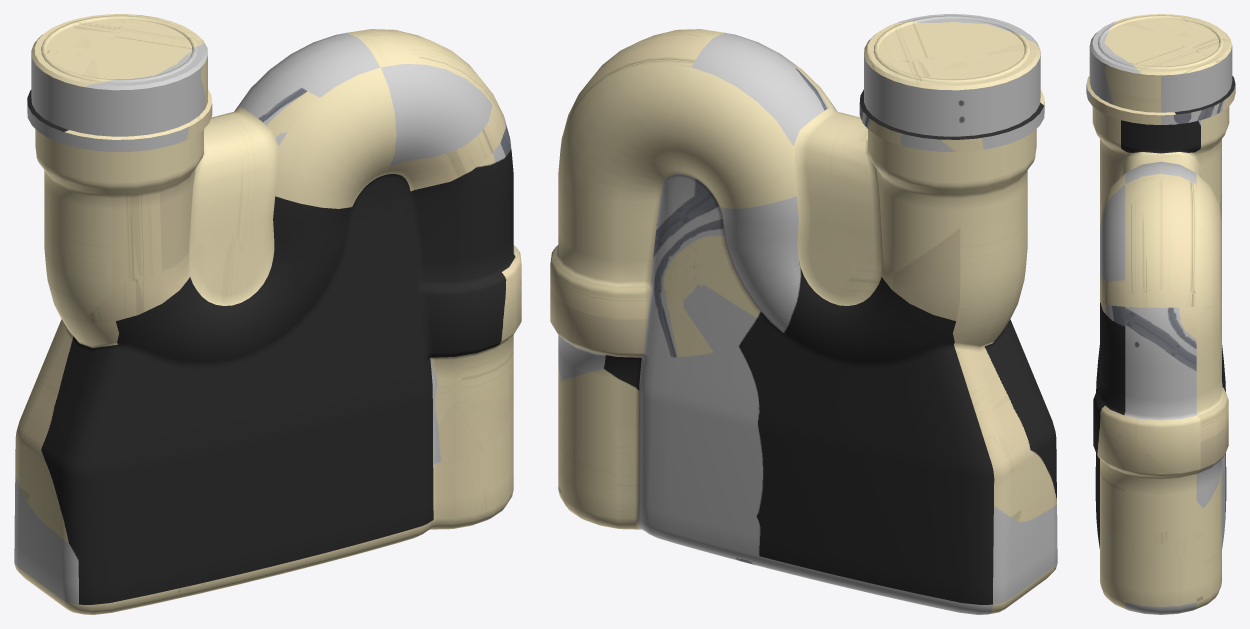
The model's file is drain_cleaner.fbx.
3 renders of one model, left to right at view 1: azimuth 30°, elevation 25°; view 2: azimuth 150°, elevation 25°; view 3: azimuth 270°, elevation 25°, orthographic. The views are drawn at different scales.
Parts seen in each view (by area): view 1: drain_cleaner; view 2: drain_cleaner; view 3: drain_cleaner.
Part boxes in pixels (box(x1,y1,x2,y2)): drain_cleaner: box(14, 14, 521, 614); drain_cleaner: box(550, 14, 1057, 614); drain_cleaner: box(1086, 14, 1235, 614).
Size of the model in its own units: 16.54 by 17.86 by 5.63.
